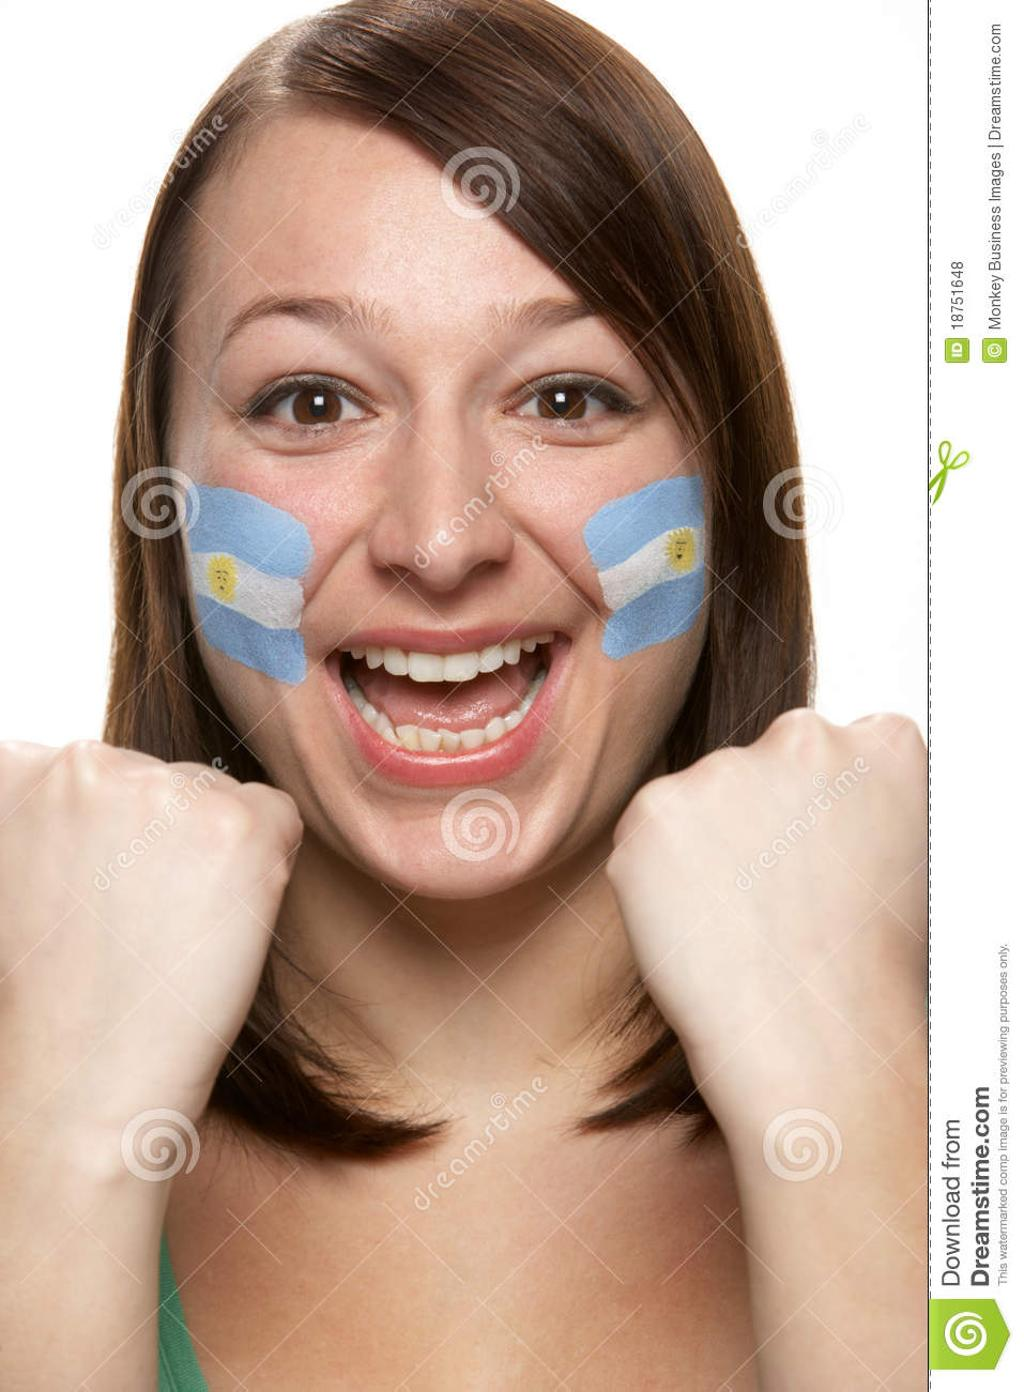face: (155, 228, 701, 899)
